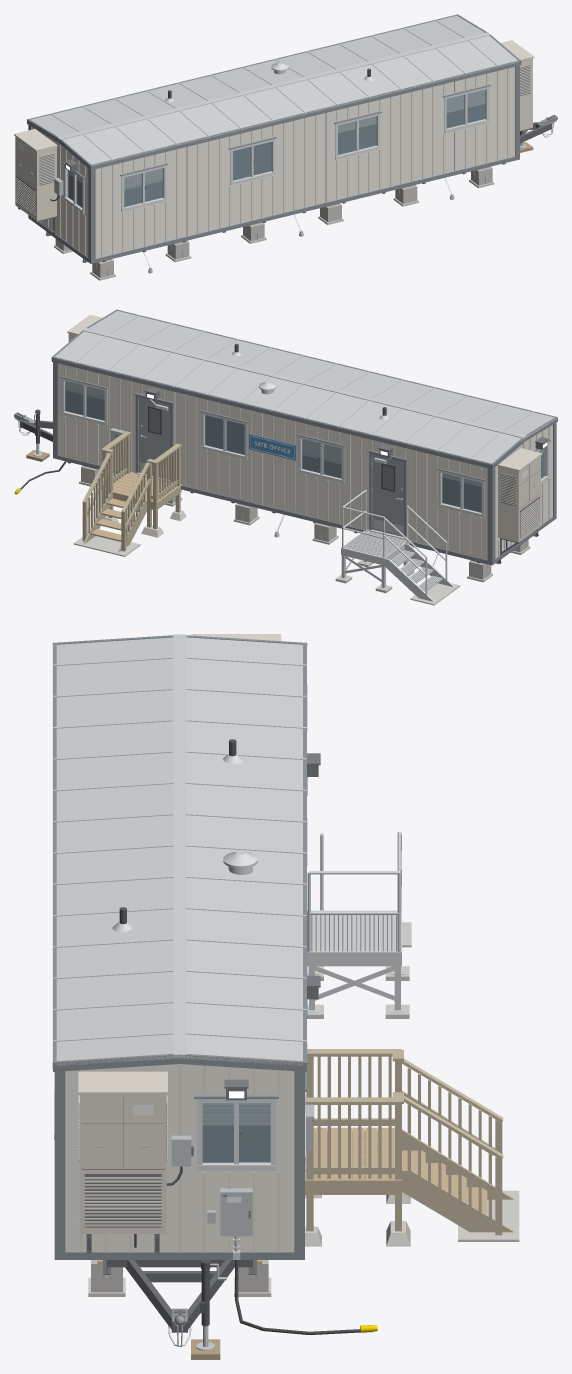
The model's file is Mobile_Site_Office_10x40ft.glb.
3 renders of one model, top to bottom at view 1: azimuth 30°, elevation 25°; view 2: azimuth 150°, elevation 25°; view 3: azimuth 270°, elevation 25°, orthographic. The views are drawn at different scales.
Parts seen in each view (by area): view 1: body, roof, trim, siding_ribs, glass, hvac_units, roof_seams, window_frames, window_backs, pier_blocks, hvac_grilles_brackets, blinds (+2 smaller); view 2: roof, body, trim, glass, siding_ribs, hvac_units, window_backs, guards, roof_seams, steel_stair, window_frames, doors (+17 smaller); view 3: roof, body, hvac_units, roof_seams, trim, guards, steel_stair, glass, hvac_grilles_brackets, landing_deck, stair_posts, electrical_boxes (+17 smaller).
Boxes of the visible parts, x1,y1,x2,y2 form: body: [32, 67, 514, 258]; roof: [27, 15, 519, 166]; trim: [27, 14, 521, 263]; siding_ribs: [41, 68, 509, 257]; glass: [67, 89, 485, 207]; hvac_units: [14, 40, 534, 220]; roof_seams: [50, 19, 498, 160]; window_frames: [63, 86, 489, 213]; window_backs: [69, 104, 484, 206]; pier_blocks: [55, 167, 492, 277]; hvac_grilles_brackets: [16, 65, 530, 233]; blinds: [68, 90, 484, 189]; roof: [53, 311, 557, 465]; body: [58, 363, 552, 559]; trim: [51, 309, 557, 565]; glass: [65, 381, 545, 512]; siding_ribs: [64, 365, 549, 558]; hvac_units: [67, 314, 542, 542]; window_backs: [65, 390, 543, 511]; guards: [82, 431, 181, 541]; roof_seams: [74, 315, 534, 458]; steel_stair: [339, 529, 454, 601]; window_frames: [61, 378, 549, 539]; doors: [139, 397, 403, 536]; roof: [52, 637, 302, 1066]; body: [65, 1064, 294, 1251]; hvac_units: [78, 634, 281, 1233]; roof_seams: [53, 634, 306, 1056]; trim: [52, 635, 307, 1259]; guards: [305, 1049, 503, 1228]; steel_stair: [307, 907, 404, 1012]; glass: [202, 1103, 270, 1162]; hvac_grilles_brackets: [79, 1096, 312, 1253]; landing_deck: [305, 1127, 401, 1182]; stair_posts: [306, 1056, 502, 1235]; electrical_boxes: [171, 1104, 314, 1236].
Bounding box in the file's own units: 14.78 × 3.75 × 5.77.
